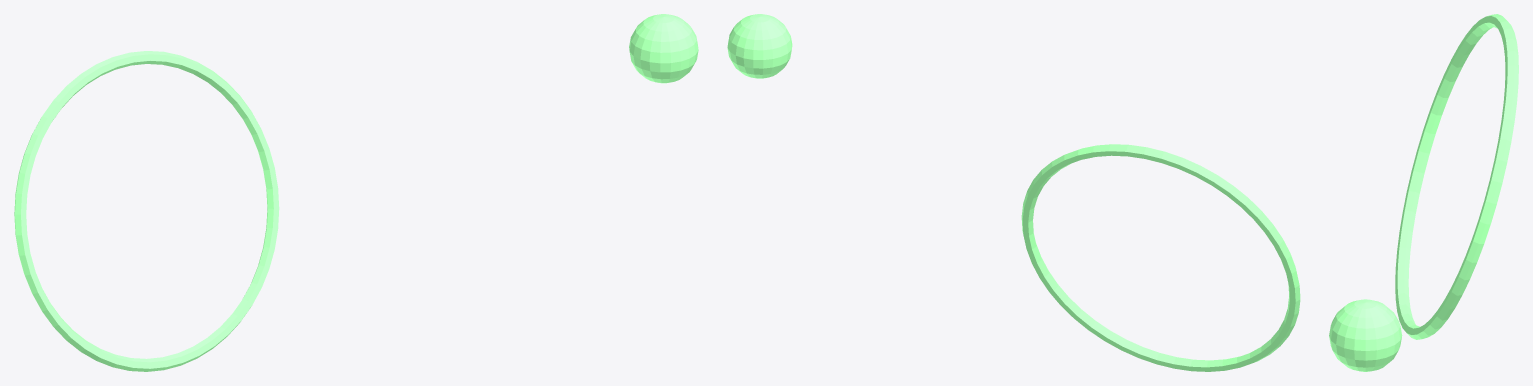
File: SkyPlanet_SkyPlanetBand.fbx
3 views of the same model, side by side, from view 1: azimuth 30°, elevation 25°; view 2: azimuth 150°, elevation 25°; view 3: azimuth 270°, elevation 25° (orthographic). The views are drawn at different scales.
Parts seen in each view (by area): view 1: SkyPlanetBand.001; view 2: SkyPlanetBand.001; view 3: SkyPlanetBand.001.
Boxes of the visible parts, box(x1,y1,x2,y2) form: SkyPlanetBand.001: box(14, 14, 698, 371); SkyPlanetBand.001: box(727, 14, 1300, 371); SkyPlanetBand.001: box(1329, 14, 1518, 371).
Bounding box in the file's own units: 33885 × 13916 × 8307.
